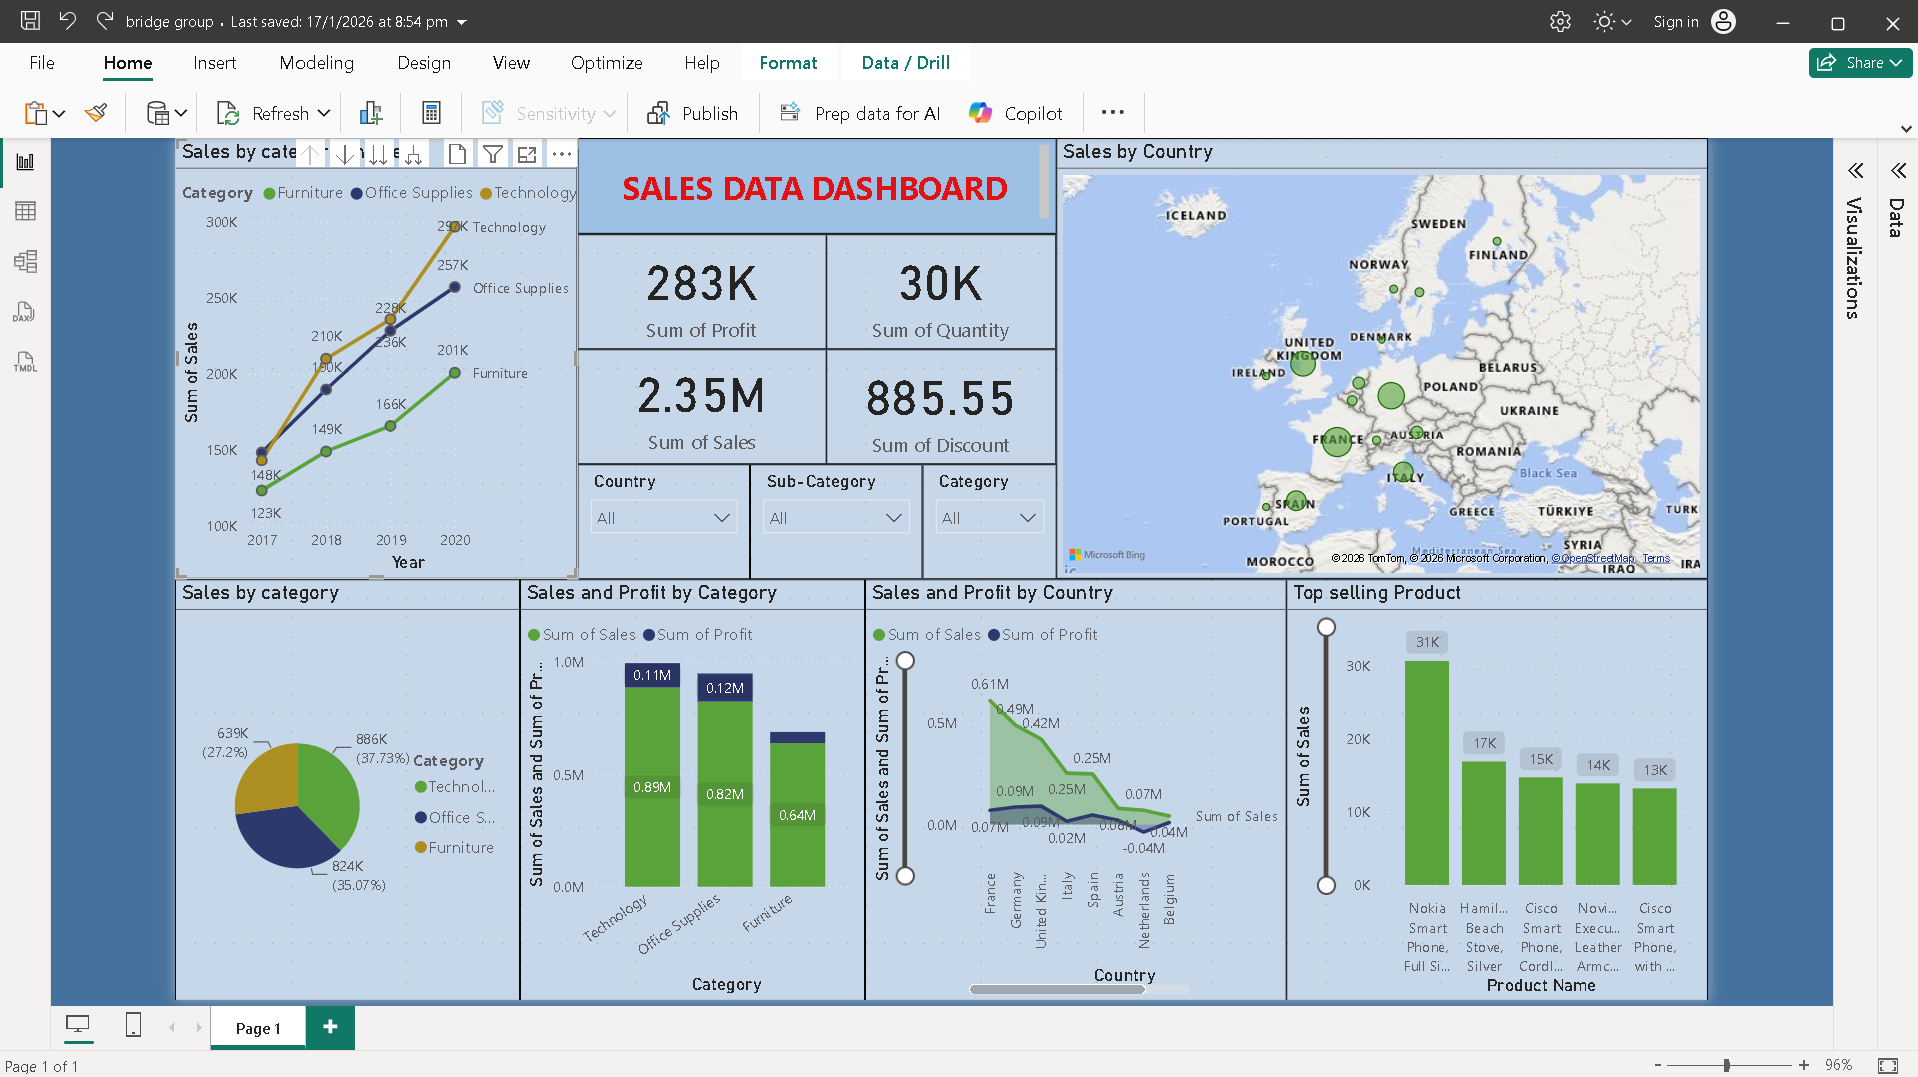

The page's visual inventory and layout, read from the dashboard file:
{"tool":"powerbi","page":{"name":"Page 1","canvas":[1280,720],"ordinal":0},"visuals":[{"type":"pieChart","title":"Sales by category","fields":{"Category":["Order Breakdown.Category"],"Y":["Sum(Order Breakdown.Sales)"]},"box":[0,368,288,352],"z":0},{"type":"card","fields":{"Values":["Sum(Order Breakdown.Sales)"]},"box":[336,176,208,96],"z":1000},{"type":"textbox","box":[336,0,400,80],"z":2000},{"type":"card","fields":{"Values":["Sum(Order Breakdown.Profit)"]},"box":[336,80,208,96],"z":3000},{"type":"card","fields":{"Values":["Sum(Order Breakdown.Discount)"]},"box":[544,176,192,96],"z":4000},{"type":"card","fields":{"Values":["Sum(Order Breakdown.Quantity)"]},"box":[544,80,192,96],"z":5000},{"type":"map","title":"Sales by Country","fields":{"Category":["List of Orders.Country"],"Size":["Sum(Order Breakdown.Sales)"]},"box":[736,0,544,368],"z":7000},{"type":"areaChart","title":"Sales and Profit by Country","fields":{"Category":["List of Orders.Country"],"Y":["Sum(Order Breakdown.Sales)","Sum(Order Breakdown.Profit)"]},"box":[576,368,352,352],"z":8000},{"type":"slicer","fields":{"Values":["Order Breakdown.Sub-Category"]},"box":[480,272,144,96],"z":9000},{"type":"slicer","fields":{"Values":["List of Orders.Country"]},"box":[336,272,144,96],"z":10000},{"type":"columnChart","title":"Top selling Product ","fields":{"Category":["Order Breakdown.Product Name"],"Y":["Sum(Order Breakdown.Sales)"]},"box":[928,368,352,352],"z":11000},{"type":"slicer","fields":{"Values":["Order Breakdown.Category"]},"box":[624,272,112,96],"z":12000},{"type":"lineChart","title":"Sales by category and year","fields":{"Category":["List of Orders.Order Date.Variation.Date Hierarchy.Year","List of Orders.Order Date.Variation.Date Hierarchy.Quarter","List of Orders.Order Date.Variation.Date Hierarchy.Month","List of Orders.Order Date.Variation.Date Hierarchy.Day"],"Y":["Sum(Order Breakdown.Sales)"],"Series":["Order Breakdown.Category"]},"box":[0,0,336,368],"z":12500},{"type":"columnChart","title":"Sales and Profit by Category","fields":{"Category":["Order Breakdown.Category"],"Y":["Sum(Order Breakdown.Sales)","Sum(Order Breakdown.Profit)"]},"box":[288,368,288,352],"z":13000}]}

Visuals, with their boxes on the page's 1280x720 design canvas (x1, y1, x2, y2). These are canvas units, not pixel positions in the 1918x1077 screenshot, which may show the page scaled, cropped or inside an application window:
"Sales by category" pieChart: 0/368/288/720
card - Sum(Order Breakdown.Sales): 336/176/544/272
textbox: 336/0/736/80
card - Sum(Order Breakdown.Profit): 336/80/544/176
card - Sum(Order Breakdown.Discount): 544/176/736/272
card - Sum(Order Breakdown.Quantity): 544/80/736/176
"Sales by Country" map: 736/0/1280/368
"Sales and Profit by Country" areaChart: 576/368/928/720
slicer - Order Breakdown.Sub-Category: 480/272/624/368
slicer - List of Orders.Country: 336/272/480/368
"Top selling Product " columnChart: 928/368/1280/720
slicer - Order Breakdown.Category: 624/272/736/368
"Sales by category and year" lineChart: 0/0/336/368
"Sales and Profit by Category" columnChart: 288/368/576/720
